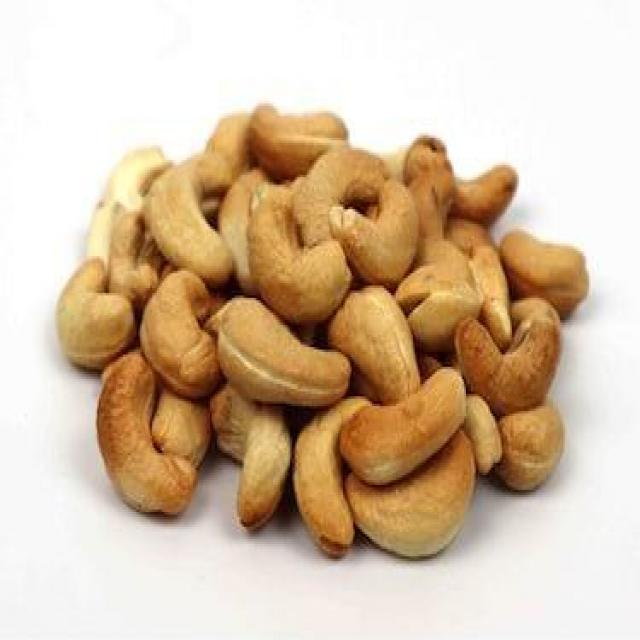Cashew: (358, 472, 514, 590), (203, 309, 363, 393), (252, 174, 338, 304), (99, 369, 174, 514), (504, 202, 609, 302), (354, 392, 480, 465), (338, 186, 431, 279), (444, 136, 552, 216), (296, 414, 352, 562), (462, 326, 587, 392), (157, 153, 226, 266), (227, 412, 292, 528), (250, 86, 350, 158), (43, 284, 119, 357), (105, 217, 152, 306), (512, 419, 574, 483)
